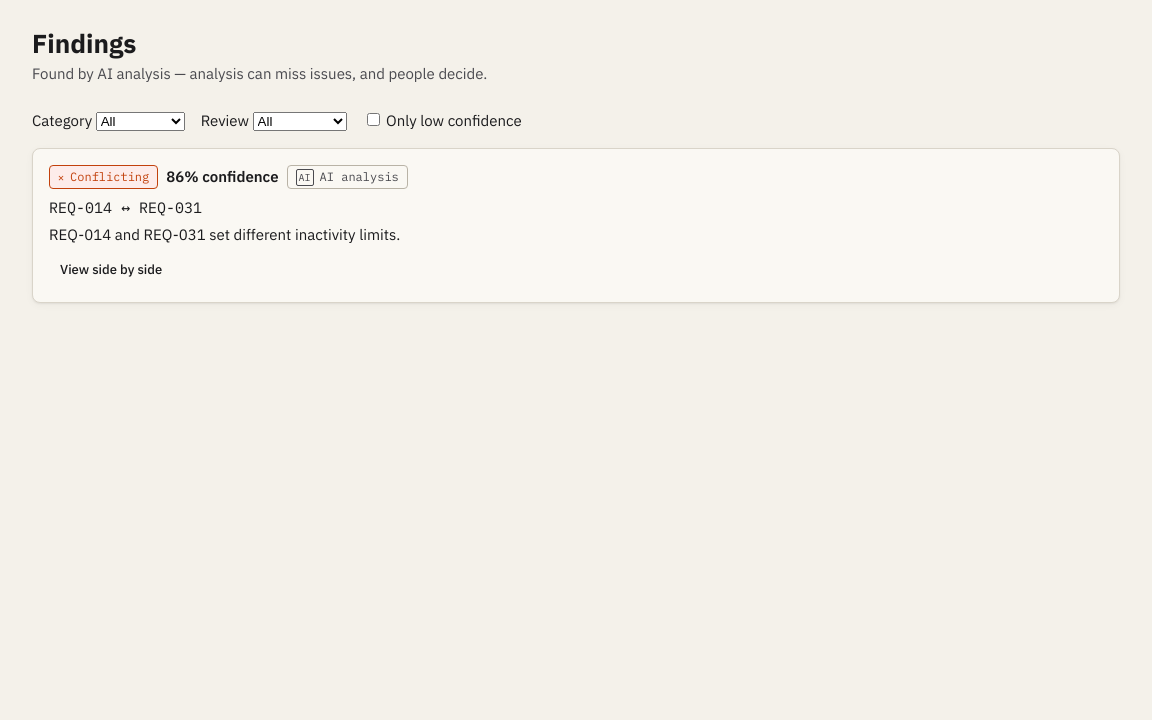
it: FindingsPage › opens a finding side by side with the problem clause highlighted and its sources
What coordinates should you click on to do the following:
click the button "View side by side"
I would click on:
 (111, 270)
Its box is left=49, top=254, right=173, bottom=286.
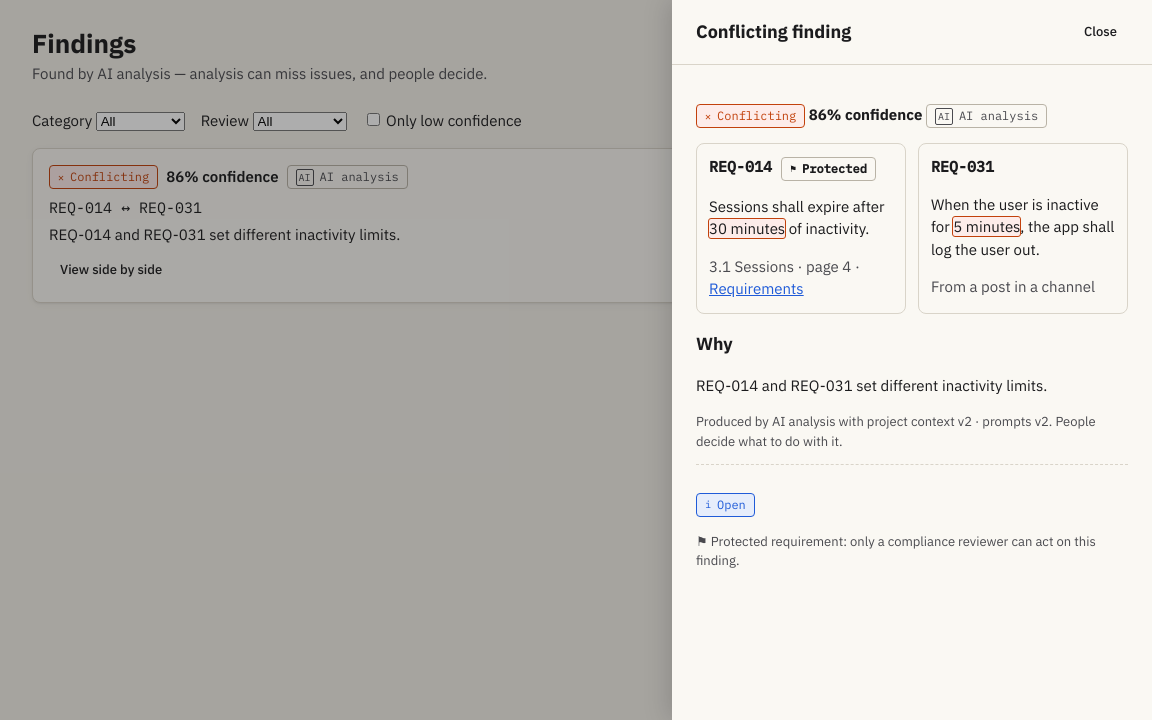
Expected: the text "3.1 Sessions · page 4 · Requirements" is shown, left=709, top=256, right=860, bottom=298
Expected: the text "Protected" is shown, left=802, top=160, right=867, bottom=176
Expected: the text "From a post in a channel" is shown, left=931, top=277, right=1095, bottom=296
